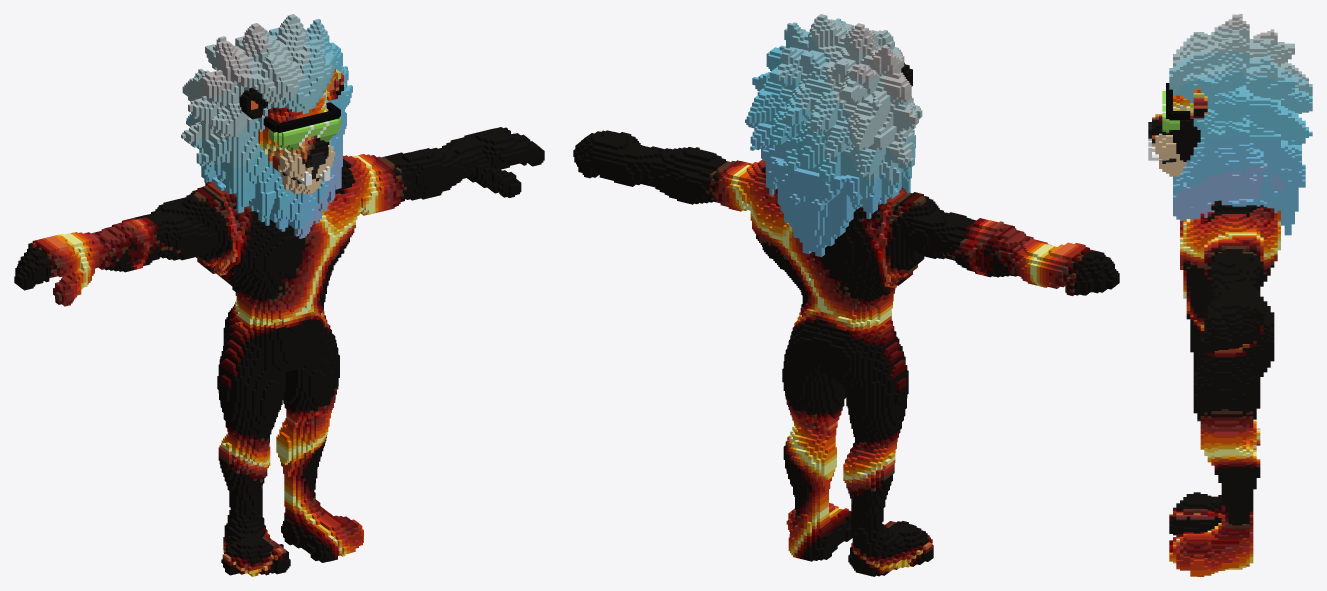
The picture shows the model from 3 angles, left to right: view 1: azimuth 30°, elevation 25°; view 2: azimuth 150°, elevation 25°; view 3: azimuth 270°, elevation 25°; orthographic projection. The views are drawn at different scales.
Visible parts, largest first — view 1: ork; view 2: ork; view 3: ork.
Boxes of the visible parts, bbox=[...] form: ork: bbox=[14, 14, 544, 576]; ork: bbox=[573, 14, 1119, 576]; ork: bbox=[1148, 14, 1312, 576].
Size of the model in its own units: 17.2 by 16.5 by 4.7.
Materials: 4 (4 with a texture image).
